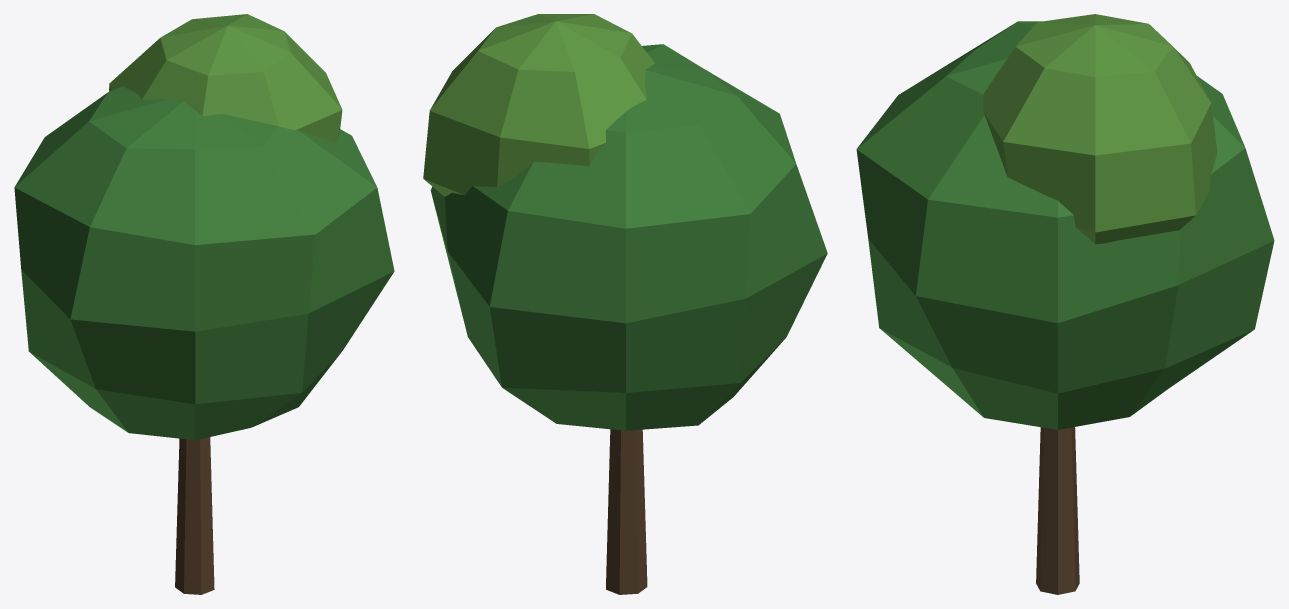
Rendered from Tree0.glb.
3 renders of one model, left to right at view 1: azimuth 30°, elevation 25°; view 2: azimuth 150°, elevation 25°; view 3: azimuth 270°, elevation 25°, orthographic. The views are drawn at different scales.
Visible parts, largest first — view 1: Tree0; view 2: Tree0; view 3: Tree0.
Part boxes in pixels (x1,y1,x2,y2): Tree0: (14, 14, 394, 594); Tree0: (423, 14, 827, 594); Tree0: (856, 14, 1274, 594).
Size of the model in its own units: 3.48 by 5.2 by 3.36.
